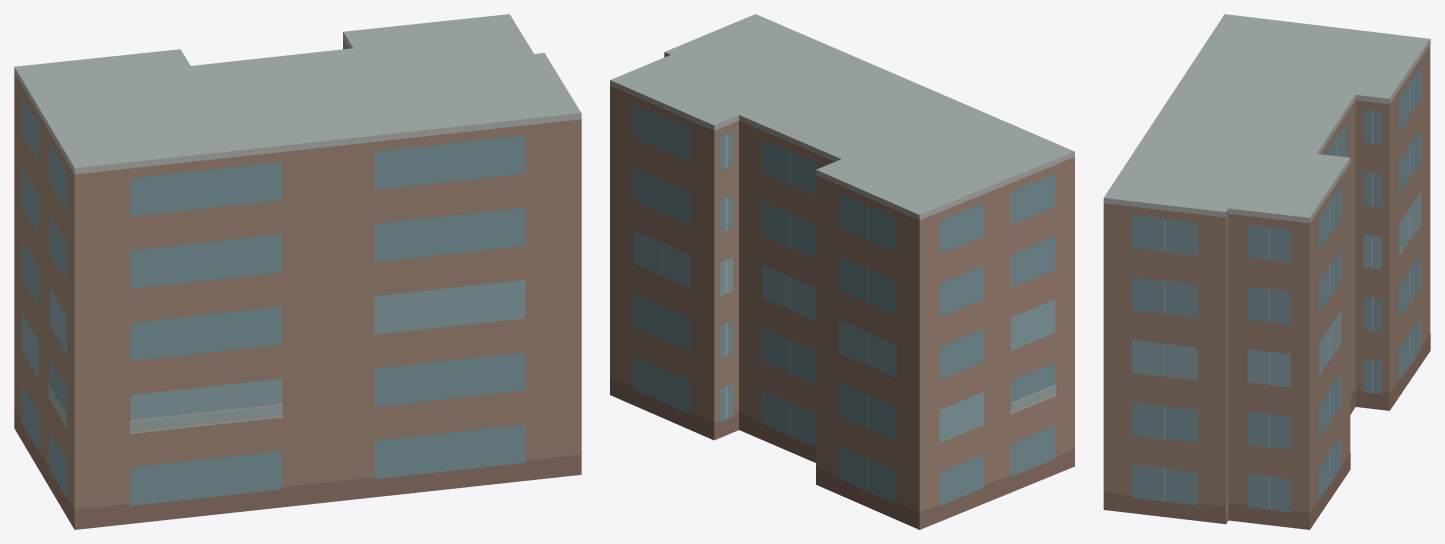
The model's file is survey-upis-32928612.glb.
3 renders of one model, left to right at view 1: azimuth 30°, elevation 25°; view 2: azimuth 150°, elevation 25°; view 3: azimuth 270°, elevation 25°, orthographic. The views are drawn at different scales.
Parts seen in each view (by area): view 1: survey-upis-32928612.tmp; view 2: survey-upis-32928612.tmp; view 3: survey-upis-32928612.tmp.
Boxes of the visible parts, box(x1,y1,x2,y2) form: survey-upis-32928612.tmp: box(14, 14, 581, 529); survey-upis-32928612.tmp: box(610, 14, 1074, 529); survey-upis-32928612.tmp: box(1103, 14, 1430, 529).
Size of the model in its own units: 19.91 by 14.2 by 13.49.
